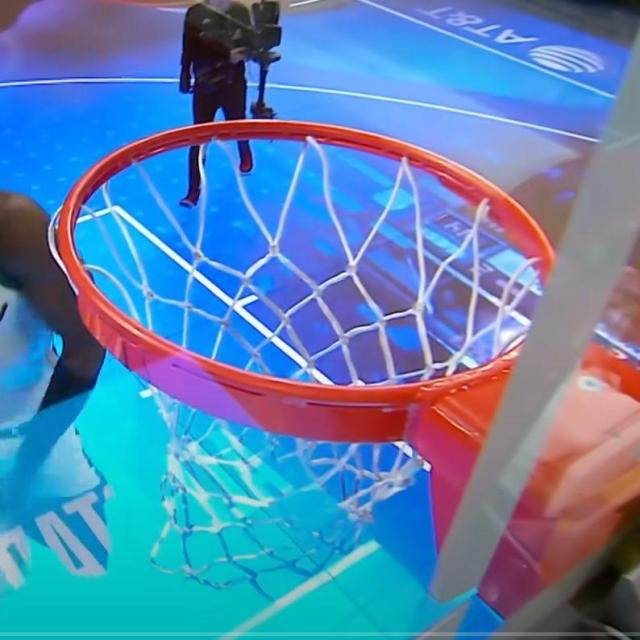hoop: (36, 100, 532, 529)
